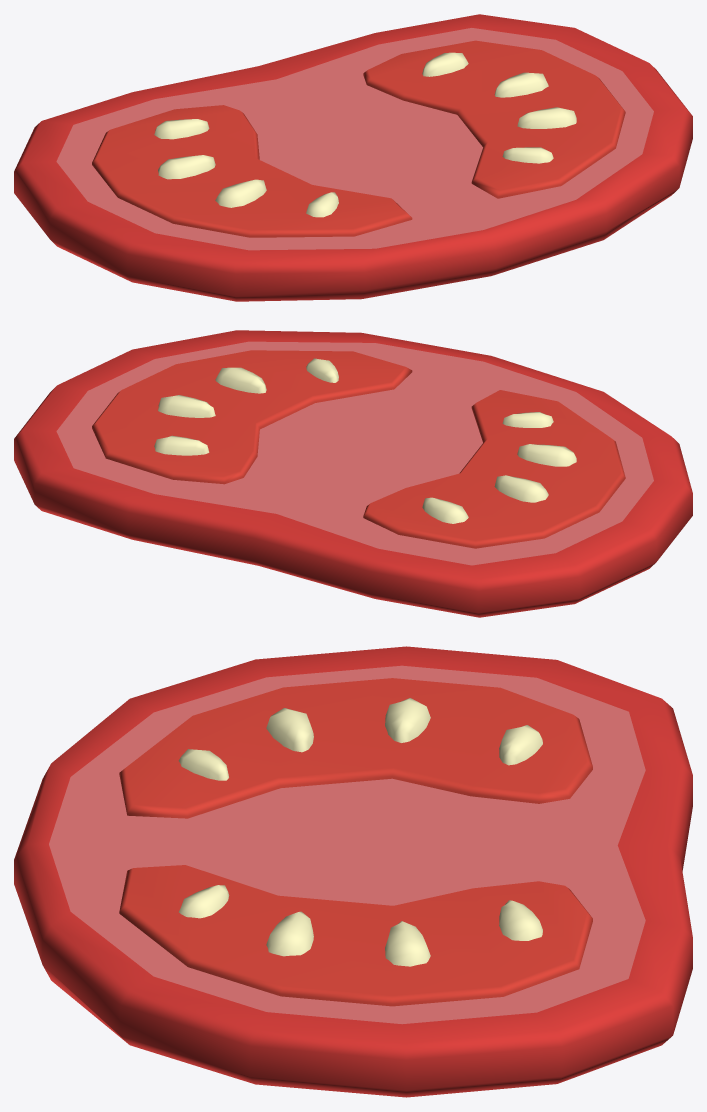
The model's file is Tomato_Piece.fbx.
The picture shows the model from 3 angles, top to bottom: view 1: azimuth 30°, elevation 25°; view 2: azimuth 150°, elevation 25°; view 3: azimuth 270°, elevation 25°; orthographic projection. The views are drawn at different scales.
Parts seen in each view (by area): view 1: Tomato_Piece; view 2: Tomato_Piece; view 3: Tomato_Piece.
Boxes of the visible parts, x1,y1,x2,y2 form: Tomato_Piece: (14,14,692,301); Tomato_Piece: (14,330,692,617); Tomato_Piece: (14,646,692,1097).
Size of the model in its own units: 14.18 by 1.68 by 10.
